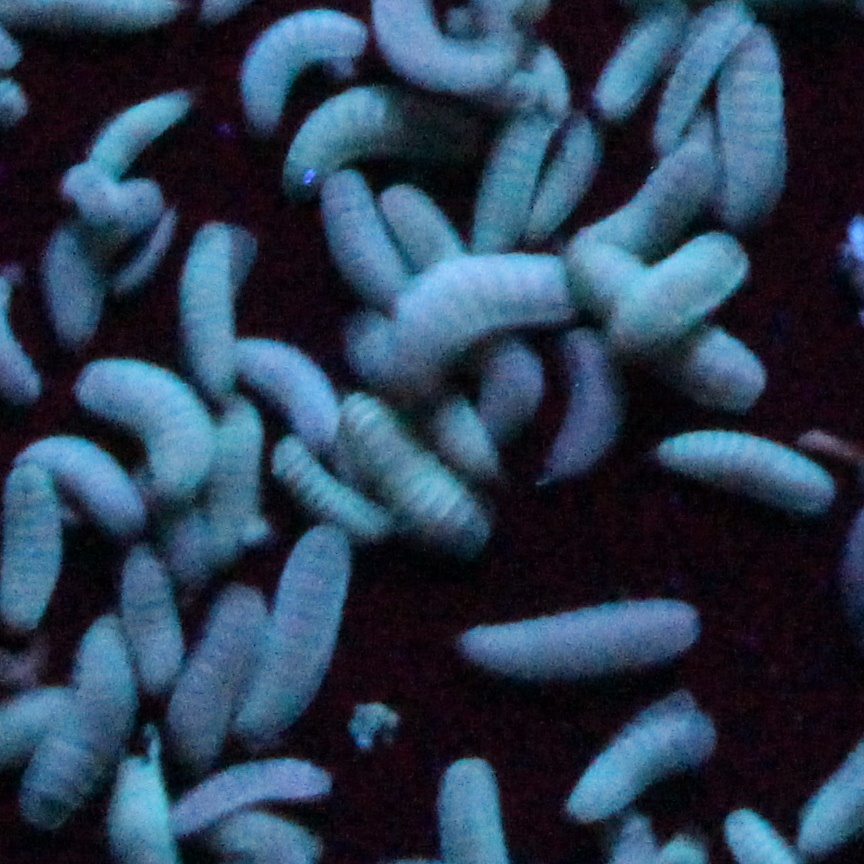larve: (573, 244, 764, 410), (326, 386, 495, 544), (233, 518, 349, 744), (602, 216, 765, 367), (62, 347, 218, 504), (27, 598, 130, 825), (558, 693, 732, 825), (463, 599, 715, 676), (648, 424, 839, 522), (706, 11, 792, 213), (309, 163, 417, 323), (394, 248, 576, 332), (171, 221, 252, 407), (169, 744, 339, 829), (226, 323, 340, 440), (77, 86, 197, 188), (177, 589, 262, 728), (554, 331, 626, 481), (472, 101, 542, 253), (116, 542, 185, 688), (541, 119, 602, 230)
